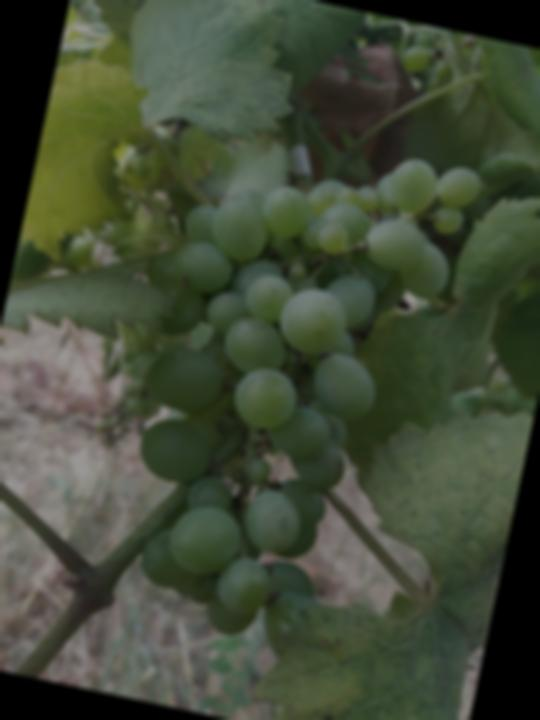grape: (73, 103, 488, 673)
